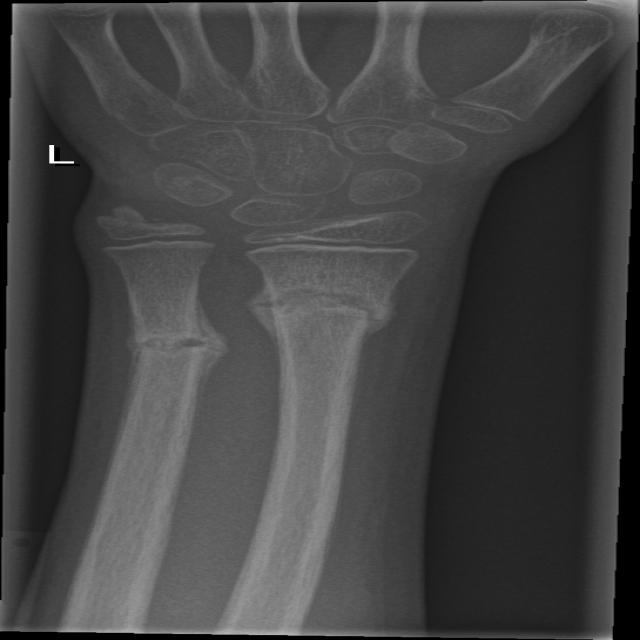radius fracture: (213, 270, 431, 400)
ulna fracture: (95, 281, 241, 450)
